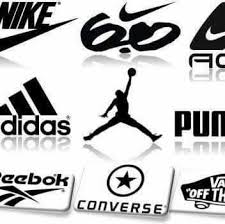adidas: (1, 76, 71, 135)
nike: (1, 17, 78, 54), (118, 1, 176, 22)
